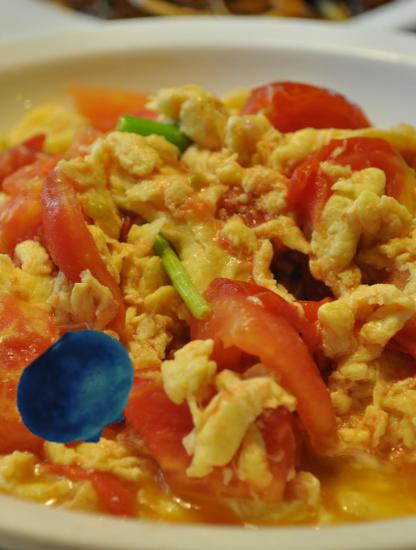Huckleberry: (15, 327, 142, 454)
